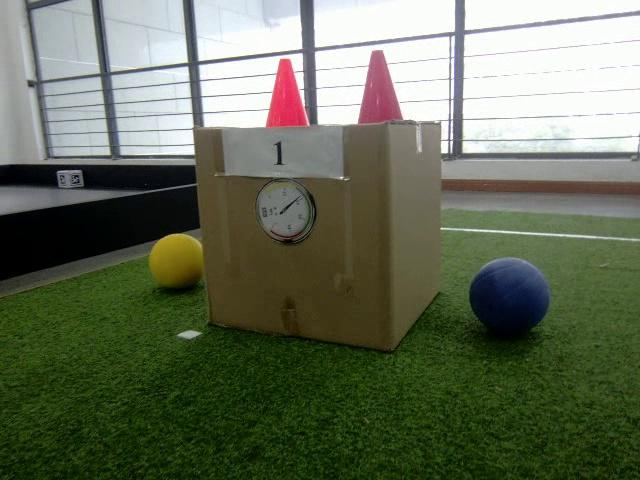1: (273, 140, 285, 165)
Dashboard: (256, 179, 317, 245)
blue_ball: (468, 258, 551, 339)
orange_barrel: (265, 57, 311, 127)
red_barrel: (356, 50, 404, 124)
ssi: (262, 207, 268, 217)
yellow_ball: (148, 232, 205, 291)
